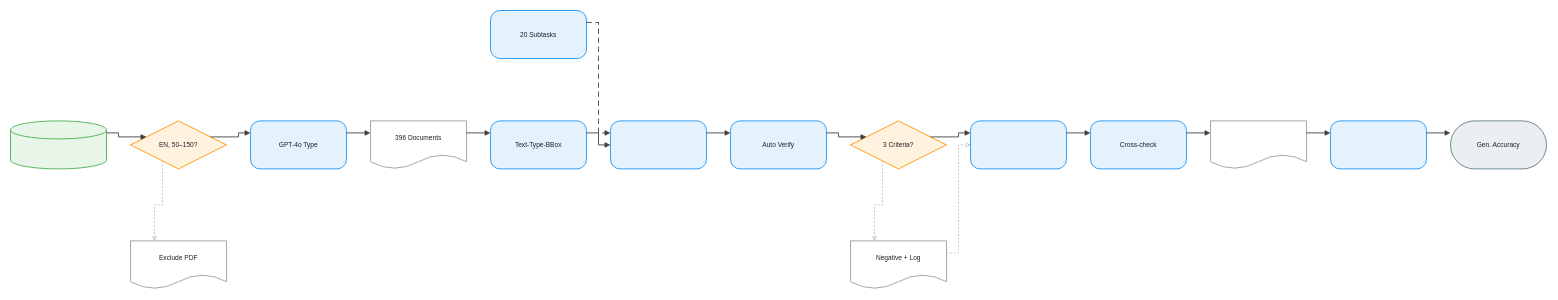
Image size: 1558x300. Some labels were removed from this diagram. Each missing label, with the centre of its shape:
2,325 QA Pairs: point (1258, 144)
200k PDFs: point (58, 144)
3-Stage Eval: point (1378, 144)
Multi-step QA: point (658, 144)
Visual Recover: point (1018, 144)
